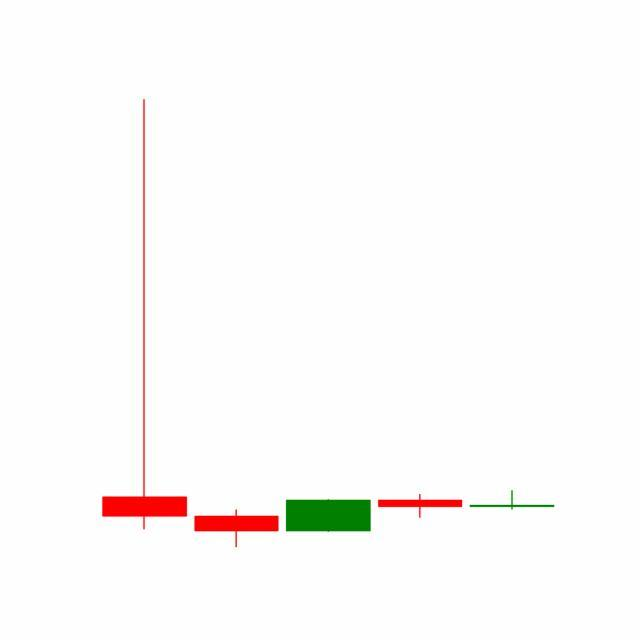Gravestone Doji: (466, 490, 559, 511)
